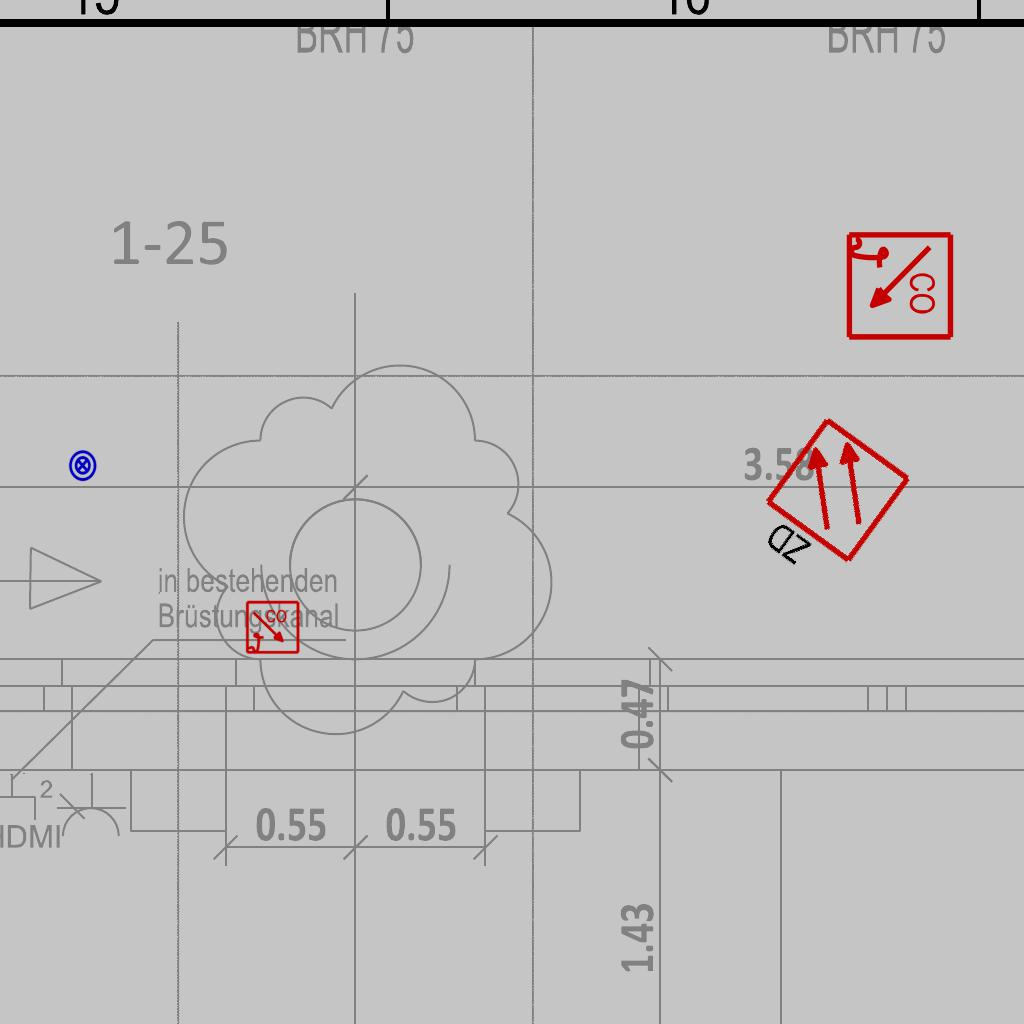ROA_Rauchmelder_optisch_mit_Signalgeber_(Sockelsirene): (842, 230, 955, 343), (245, 600, 301, 656)
Taster_beleuchtet: (66, 449, 99, 482)
ZD_Melder_in_Zwischendecke_mit_Revisionsoeffnung_mind_40_x_40_cm: (738, 412, 918, 601)
